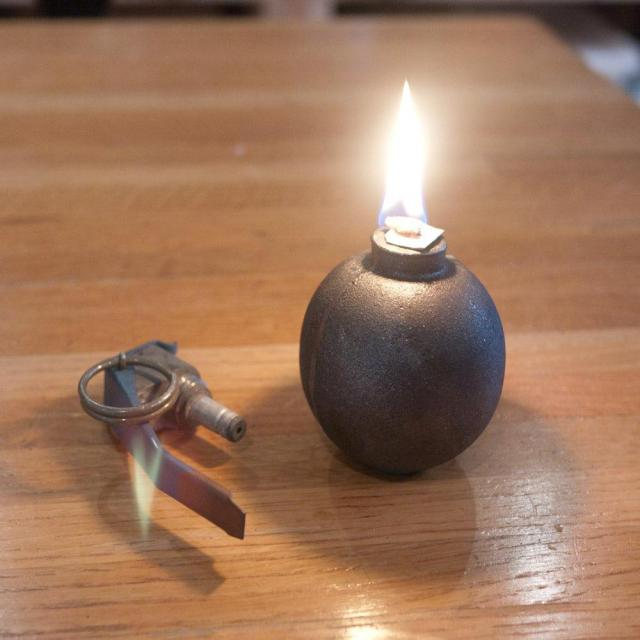grenade: (301, 211, 509, 483), (79, 342, 248, 540)
